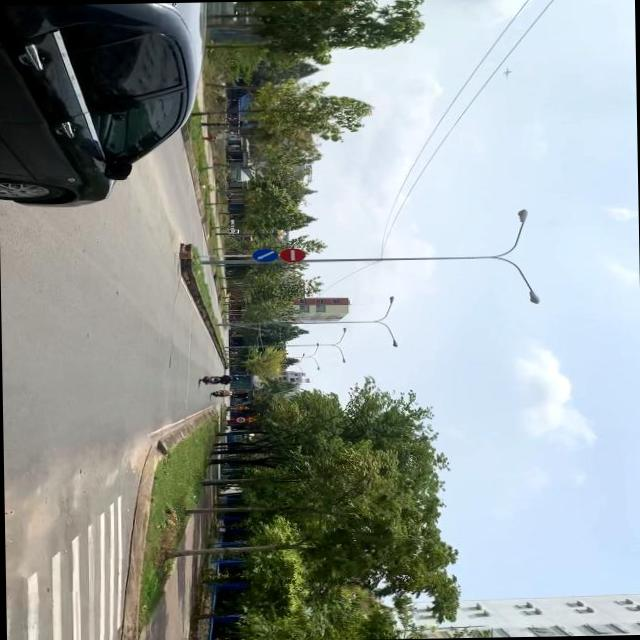P-102: (282, 247, 304, 263)
R-302a: (251, 248, 277, 262)
